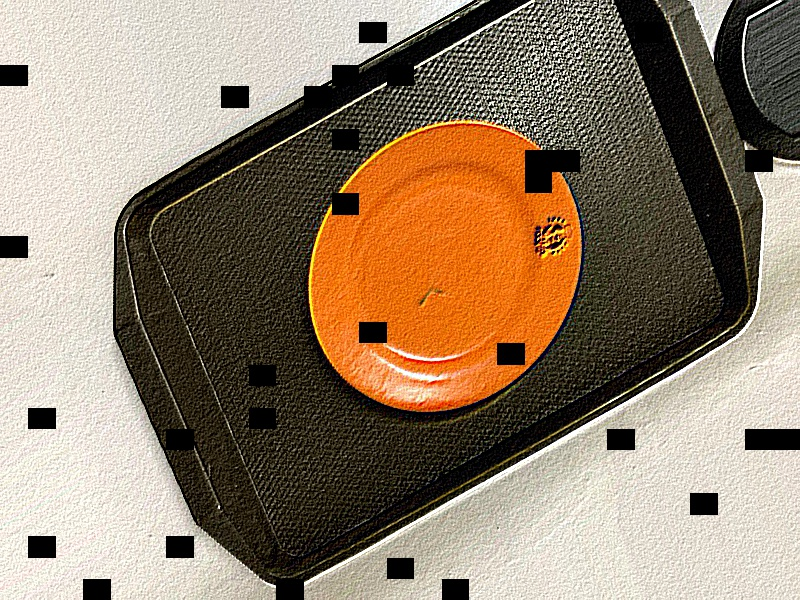dish10: (263, 63, 628, 472)
